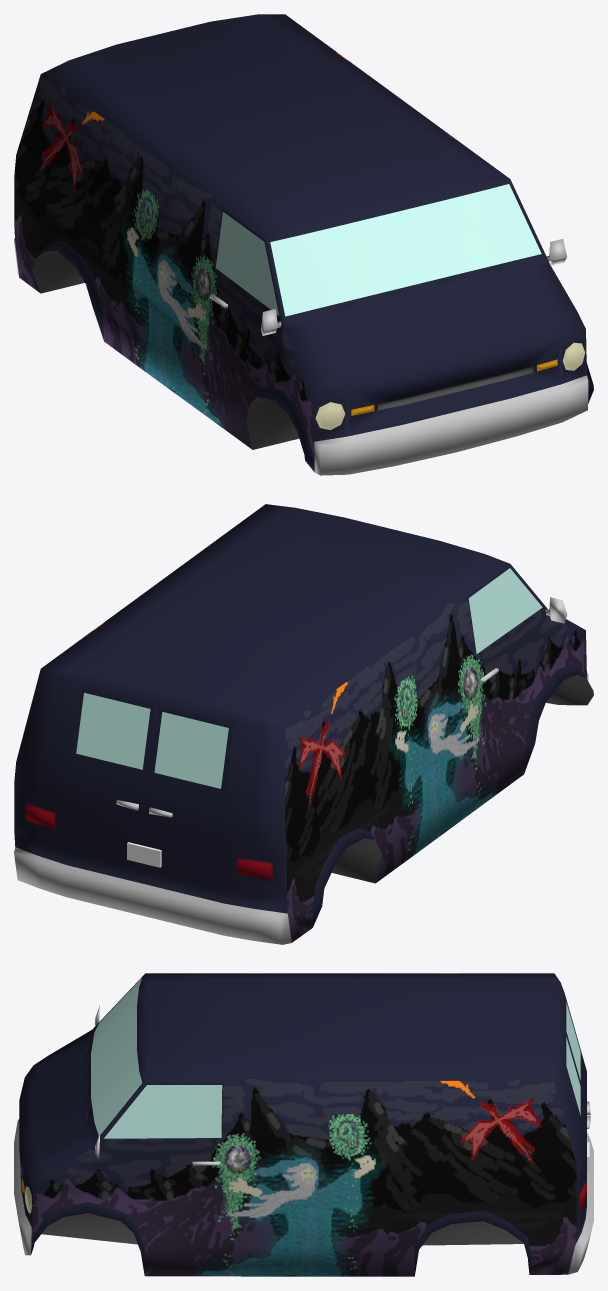
Rendered from dodge van.fbx.
The picture shows the model from 3 angles, top to bottom: view 1: azimuth 30°, elevation 25°; view 2: azimuth 150°, elevation 25°; view 3: azimuth 270°, elevation 25°; orthographic projection. The views are drawn at different scales.
Visible parts, largest first — view 1: Dodge van; view 2: Dodge van; view 3: Dodge van.
Part boxes in pixels (x1,y1,x2,y2): Dodge van: (14,14,593,475); Dodge van: (14,504,593,944); Dodge van: (14,973,593,1276).
Bounding box in the file's own units: 3.06 × 2.1 × 5.55.
